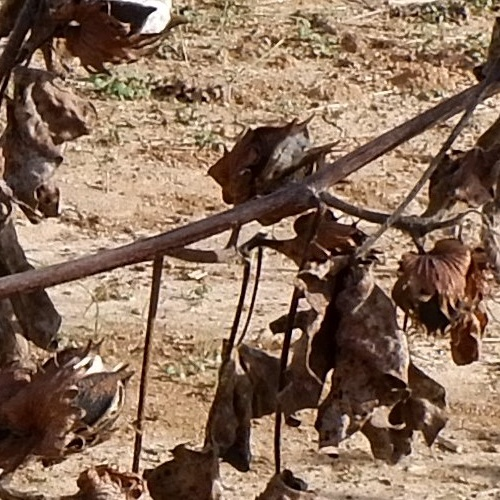immature_boll: (155, 106, 488, 496)
